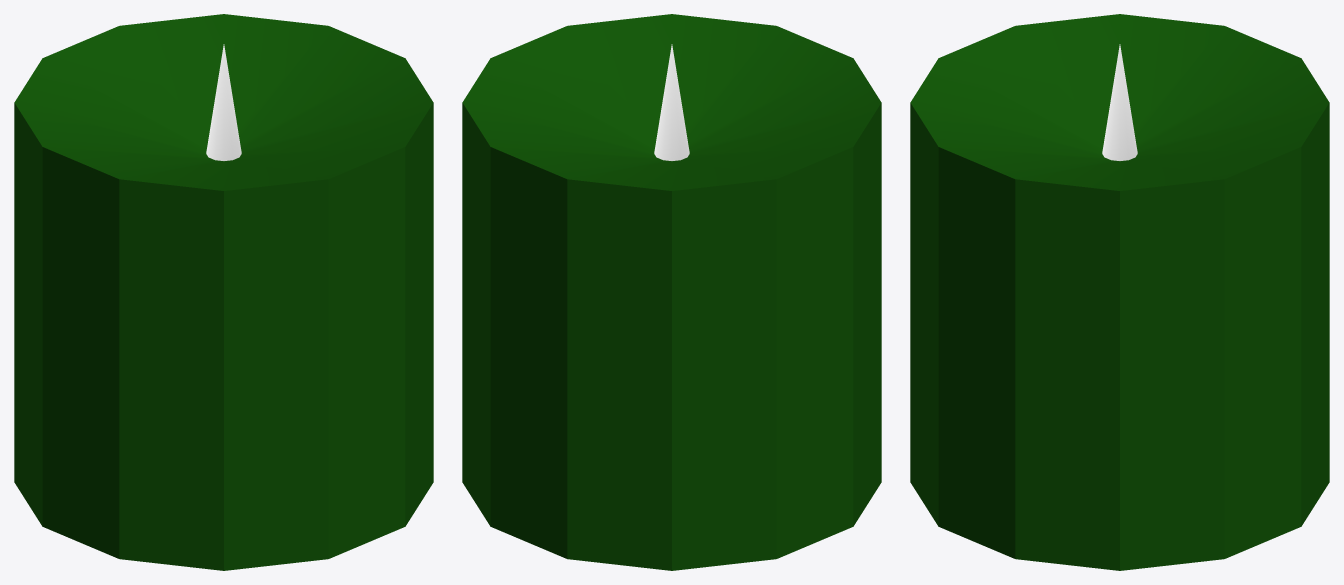
File: candle_textured_green 1.fbx
3 views of the same model, side by side, from view 1: azimuth 30°, elevation 25°; view 2: azimuth 150°, elevation 25°; view 3: azimuth 270°, elevation 25° (orthographic).
Visible parts, largest first — view 1: pCylinder1; view 2: pCylinder1; view 3: pCylinder1.
Boxes of the visible parts, x1,y1,x2,y2 form: pCylinder1: (14, 14, 433, 570); pCylinder1: (462, 14, 881, 570); pCylinder1: (910, 14, 1329, 570).
Size of the model in its own units: 2 by 2.31 by 2.
